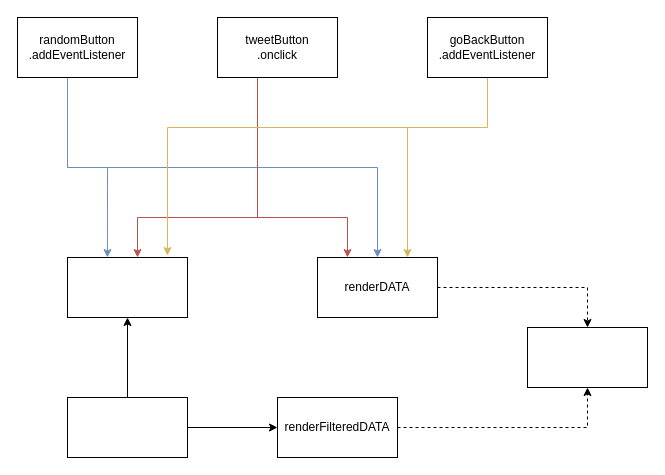
The diagram is 665 pixels wide and 475 high, and some of its shapes have lost their labels. Here are the shapes that lost their labels. From the top down, the centre of each, then its label:
At point (127, 287): "removeTweet".
At point (587, 357): "tweetListReducer".
At point (127, 427): "handleClickUser".
